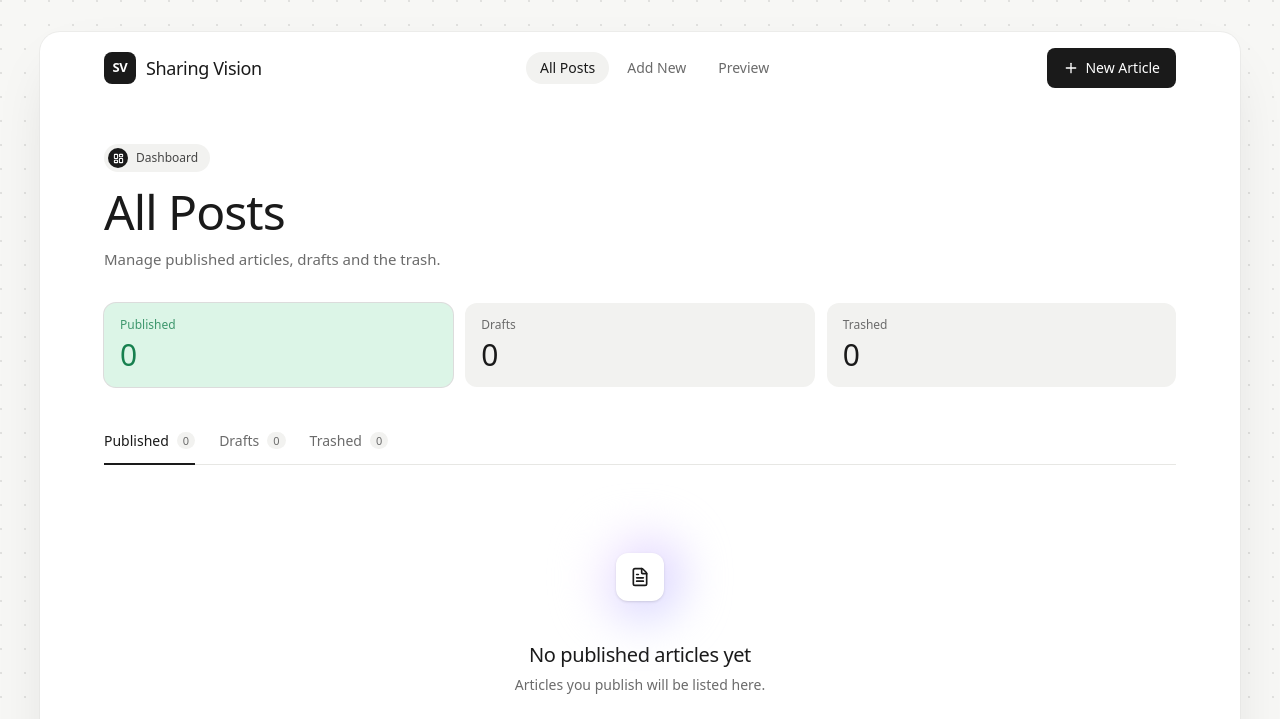
Test case: App layout and navigation › navigates between pages
The width and height of the screenshot is (1280, 719).
Click the link "Add New" at (657, 68), box [627,58,686,77]
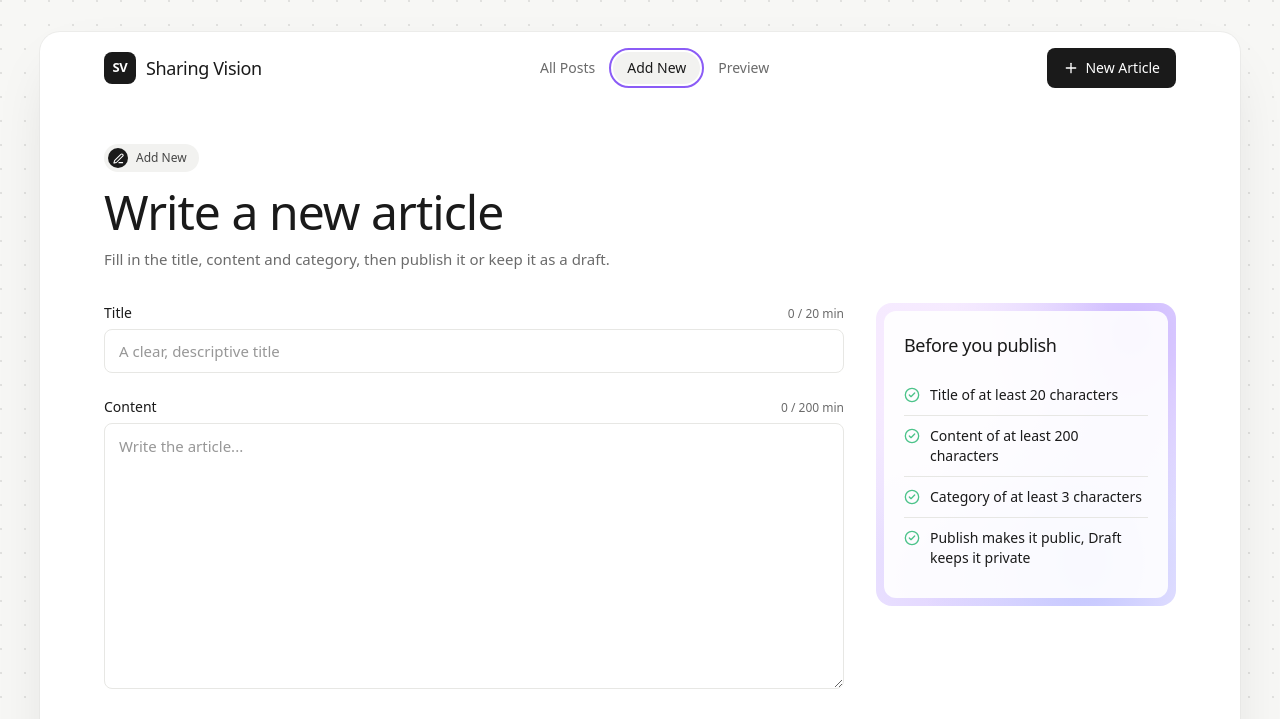
Expected: the heading "Write a new article" is shown, [104,179,503,244]
